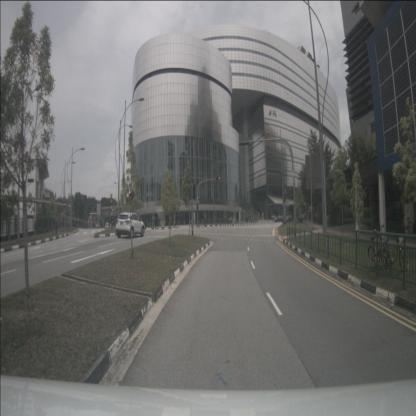vehicle-bicycle: (382, 225, 410, 273), (368, 224, 391, 276), (399, 214, 414, 235)
vehicle-car: (116, 212, 146, 239)
